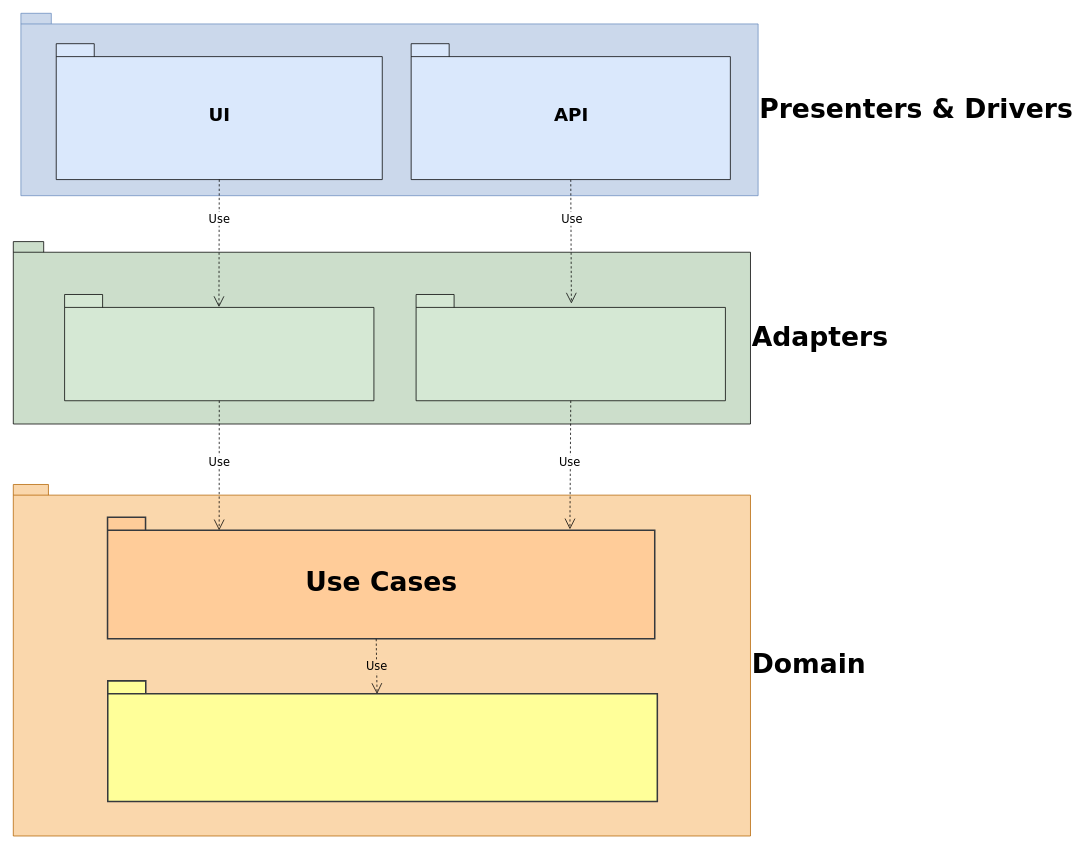
This 1087x850 diagram has some shape labels left out. Each missing label, with the centre of its shape:
"Entities" goes at point 382,741.
"gateways" goes at point 570,347.
"presenters" goes at point 219,347.
